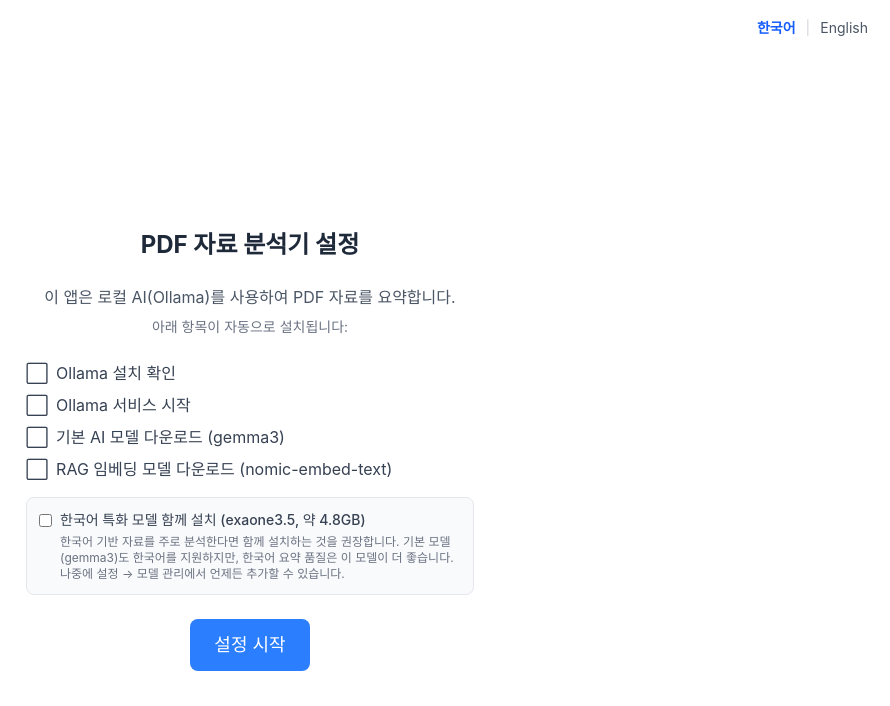
Test case: OllamaSetupWizard 선택 설치 › welcome 우상단 토글로 영어 전환 — 문구 즉시 영어로, 다시 한국어 복귀
Step 1. Click the button "English" → (844, 28), box left=814, top=16, right=874, bottom=40
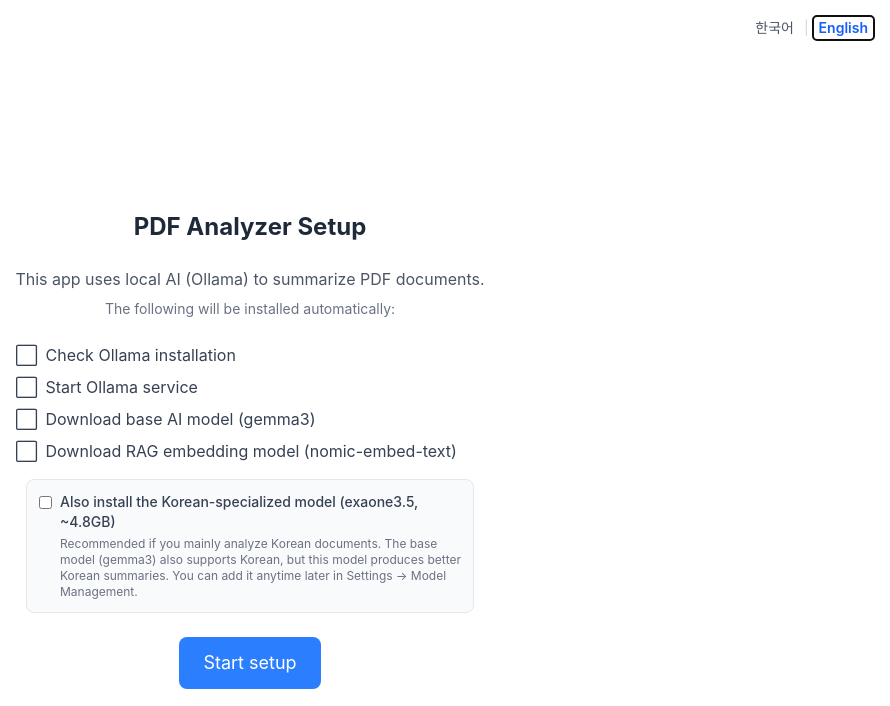
Expected: the button "Start setup" is shown, left=179, top=637, right=321, bottom=689
Step 2. Click the button "한국어" → (775, 28), box left=749, top=16, right=800, bottom=40
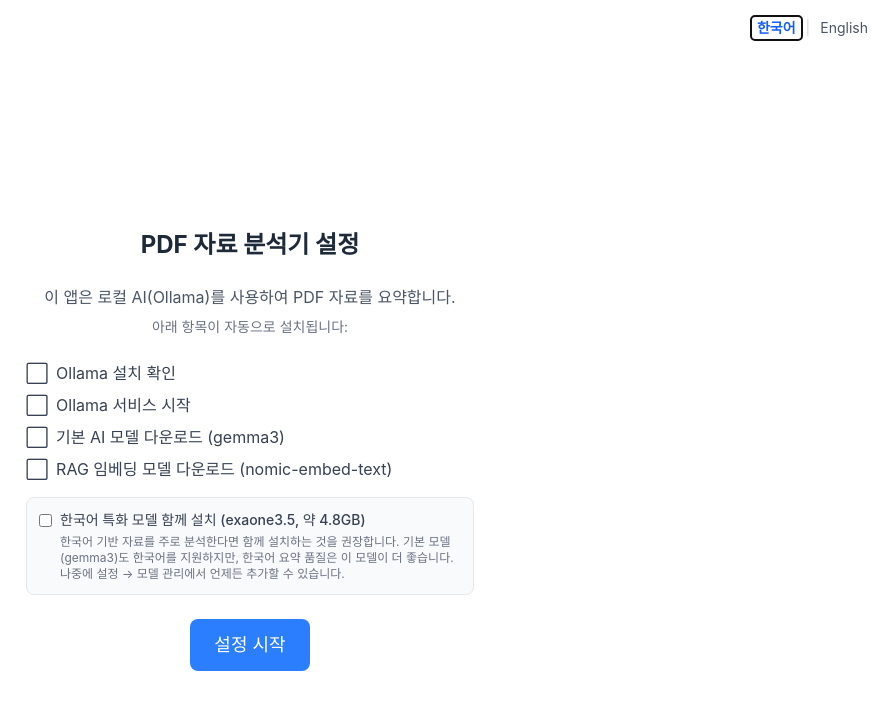
Expected: the button "Start setup" reads "설정 시작", left=190, top=619, right=310, bottom=671
